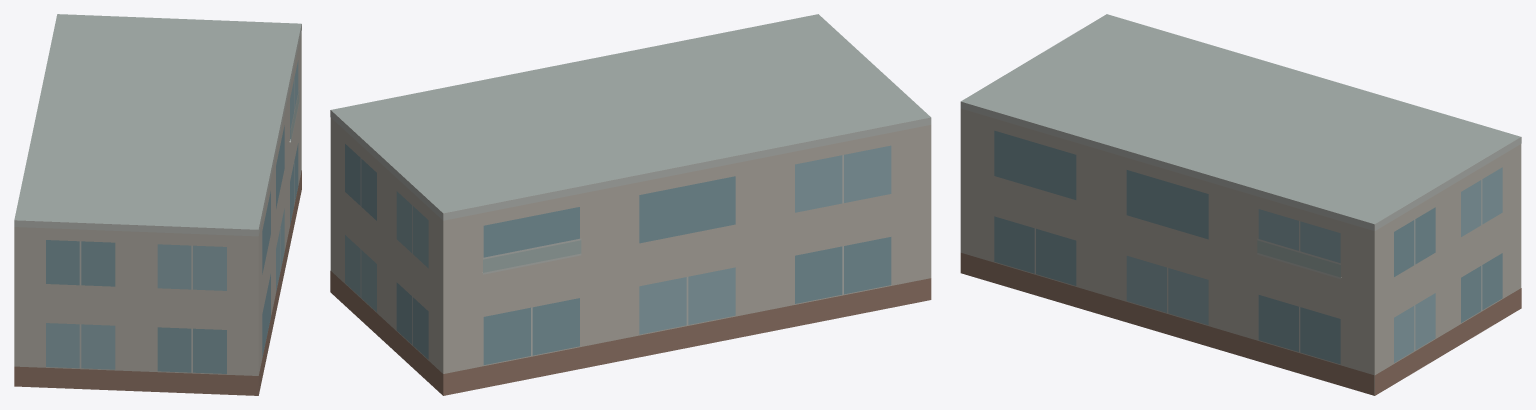
File: survey-upis-32703971.glb
3 renders of one model, left to right at view 1: azimuth 30°, elevation 25°; view 2: azimuth 150°, elevation 25°; view 3: azimuth 270°, elevation 25°, orthographic. The views are drawn at different scales.
Visible parts, largest first — view 1: survey-upis-32703971.tmp; view 2: survey-upis-32703971.tmp; view 3: survey-upis-32703971.tmp.
Boxes of the visible parts, left/top/right/bottom form: survey-upis-32703971.tmp: left=14, top=14, right=301, bottom=395; survey-upis-32703971.tmp: left=330, top=14, right=931, bottom=395; survey-upis-32703971.tmp: left=960, top=14, right=1521, bottom=395.
Size of the model in its own units: 16.04 by 6.1 by 18.08.
